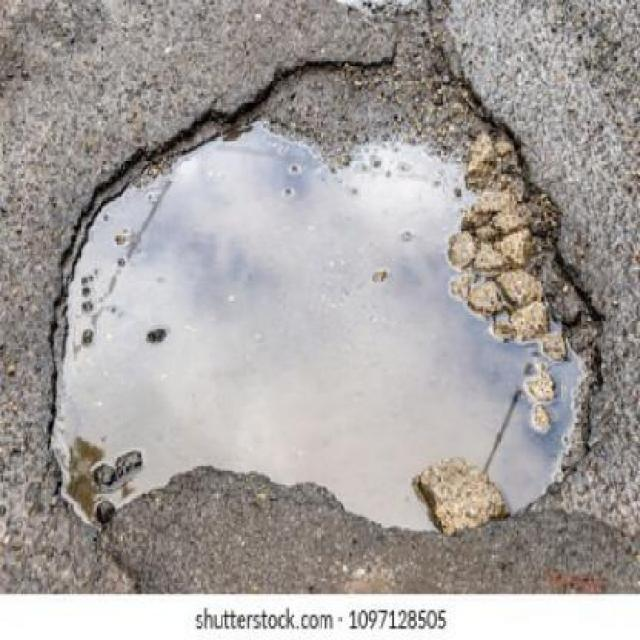pothole: (39, 50, 610, 543)
